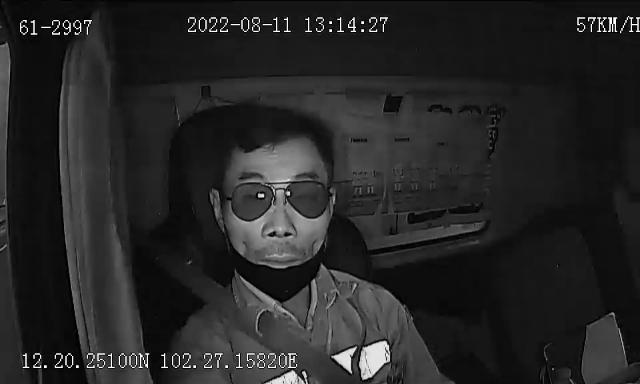SafeDriving: (420, 96, 460, 122), (246, 188, 272, 204)
Seatbelt: (195, 274, 353, 384)
